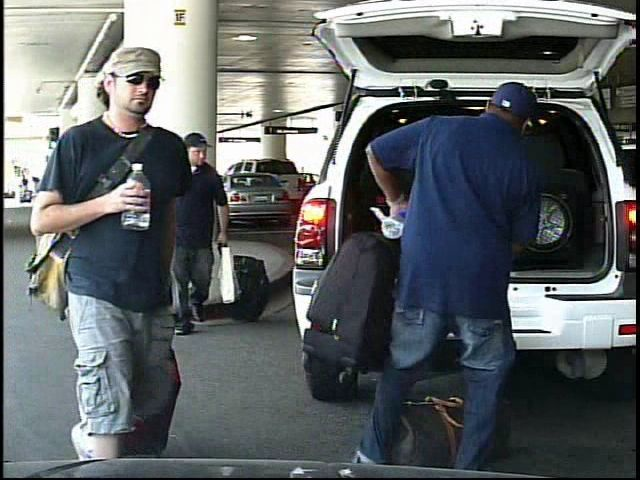person: (340, 74, 551, 471), (27, 46, 199, 473), (144, 120, 253, 334), (12, 171, 23, 202)
